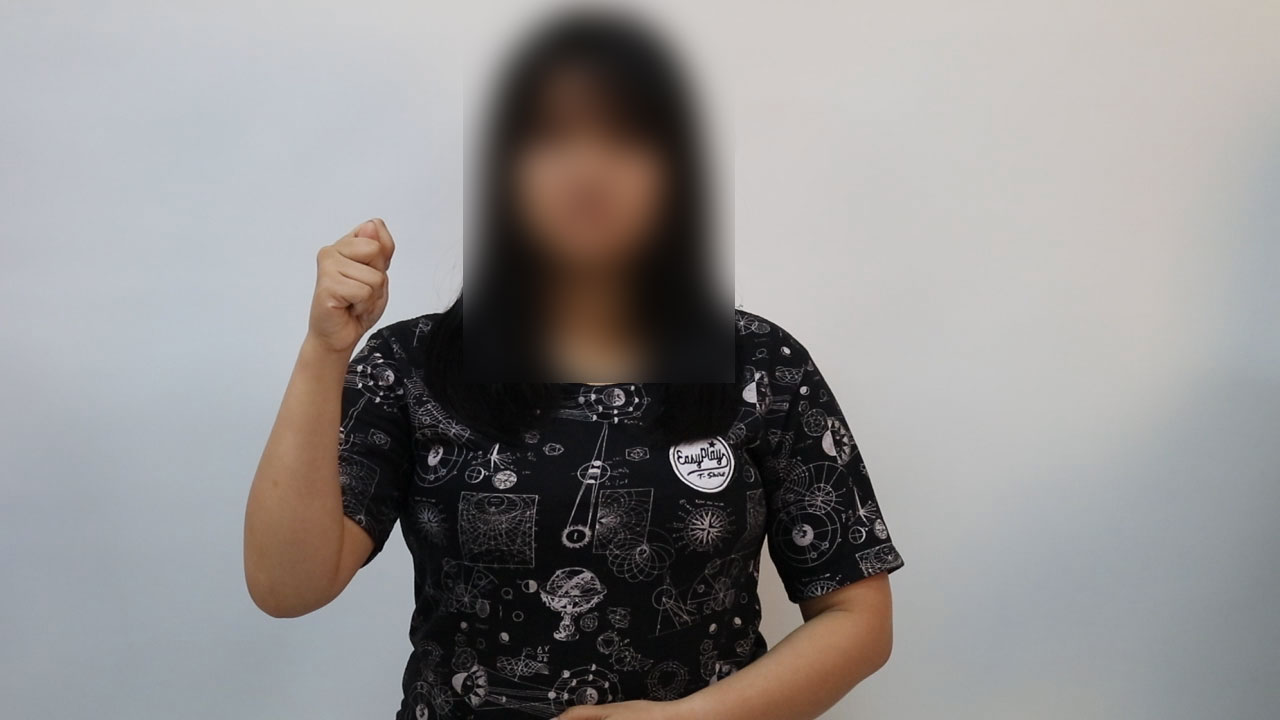tor: (292, 212, 429, 367)
